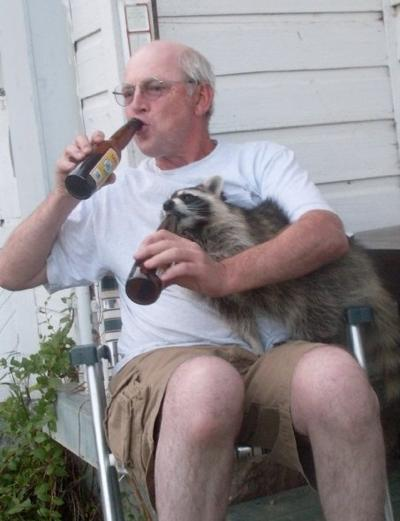person: (1, 41, 386, 521)
